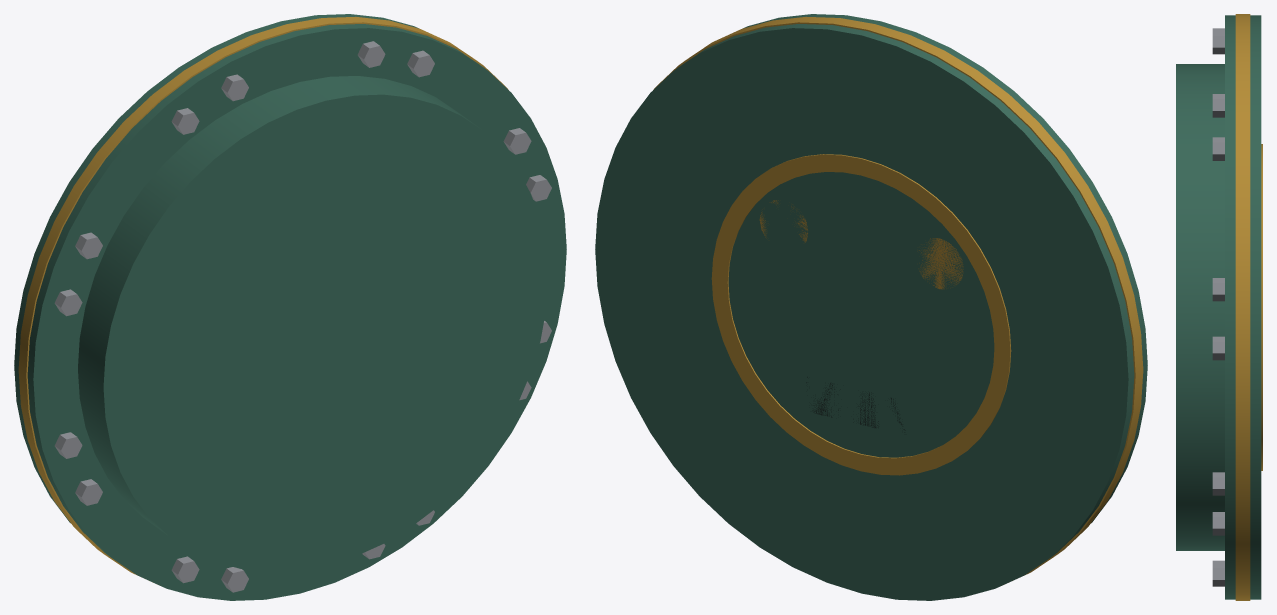
Rendered from h80_flange.obj.
The picture shows the model from 3 angles, left to right: view 1: azimuth 30°, elevation 25°; view 2: azimuth 150°, elevation 25°; view 3: azimuth 270°, elevation 25°; orthographic projection. The views are drawn at different scales.
Parts seen in each view (by area): view 1: h80_flange; view 2: h80_flange; view 3: h80_flange.
Part boxes in pixels (bbox=[...]): h80_flange: bbox=[14, 14, 566, 600]; h80_flange: bbox=[595, 14, 1147, 600]; h80_flange: bbox=[1176, 14, 1262, 600].
Bounding box in the file's own units: 2.43 × 2.43 × 0.3588.
